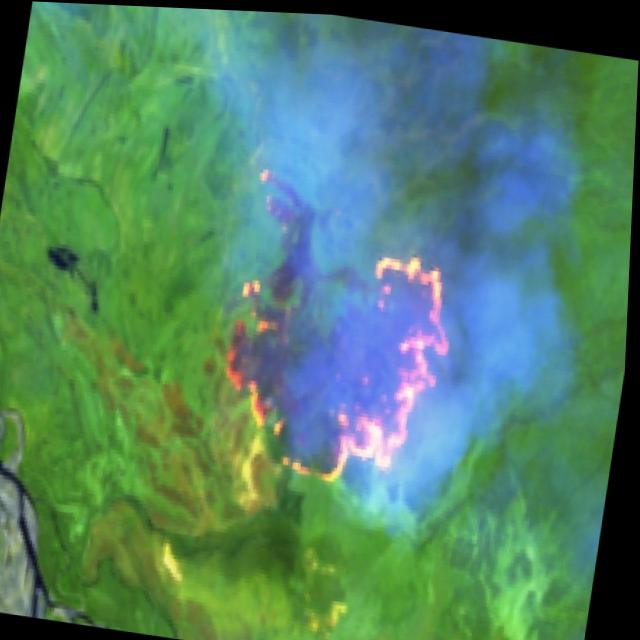fire: (189, 204, 476, 510)
